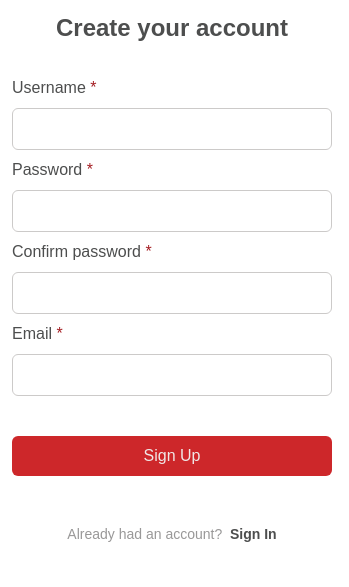
Test case: register page › validates form fields - passwords do not match
The width and height of the screenshot is (349, 587).
Type "Jessica" into the field labelled "Username".
click(172, 129); type("Jessica")  # box [12, 108, 332, 150]
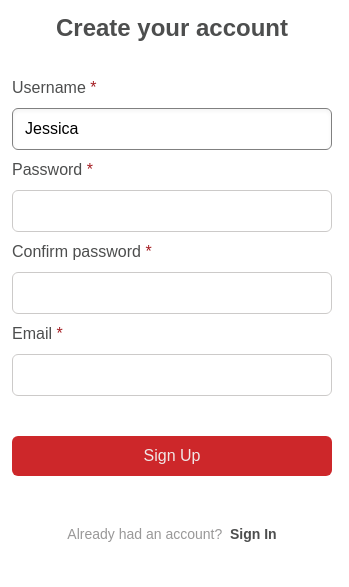
Type "abcdefgh" into the field labelled "Password".
click(172, 211); type("abcdefgh")  # box [12, 190, 332, 232]
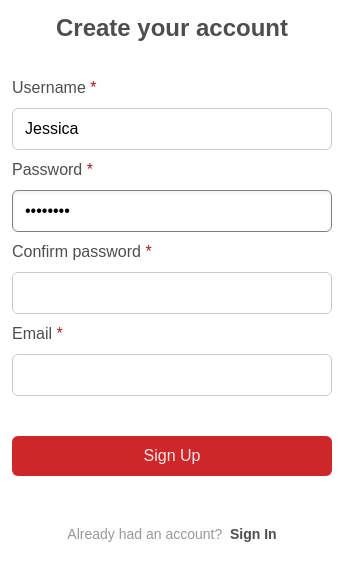
Type "12345" into the field labelled "Confirm password".
click(172, 293); type("12345")  # box [12, 272, 332, 314]
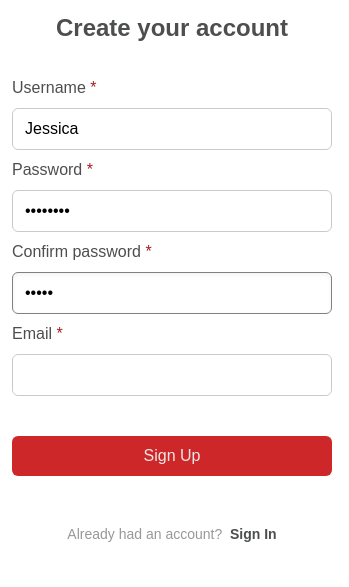
Type "ab@gmail.com" into the field labelled "Email".
click(172, 375); type("ab@gmail.com")  # box [12, 354, 332, 396]
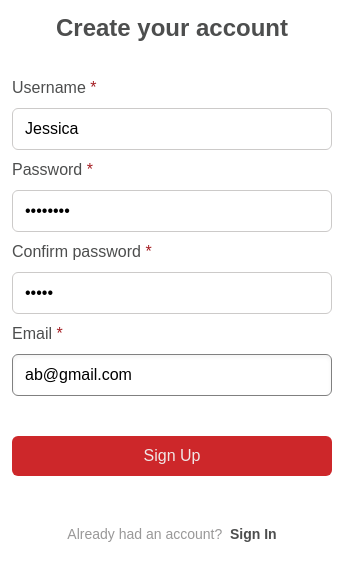
Click the button with aria-label "submit".
click(172, 456)  # box [12, 436, 332, 476]
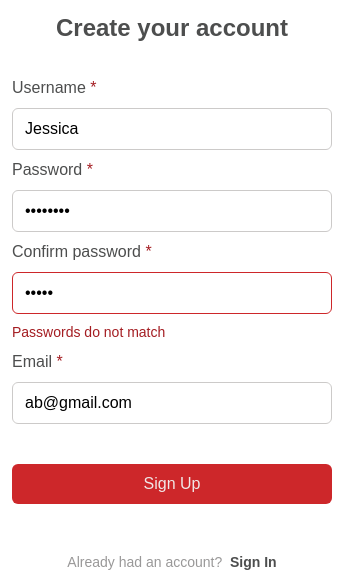
expect the number of messages is 1: met, box [12, 324, 165, 340]
